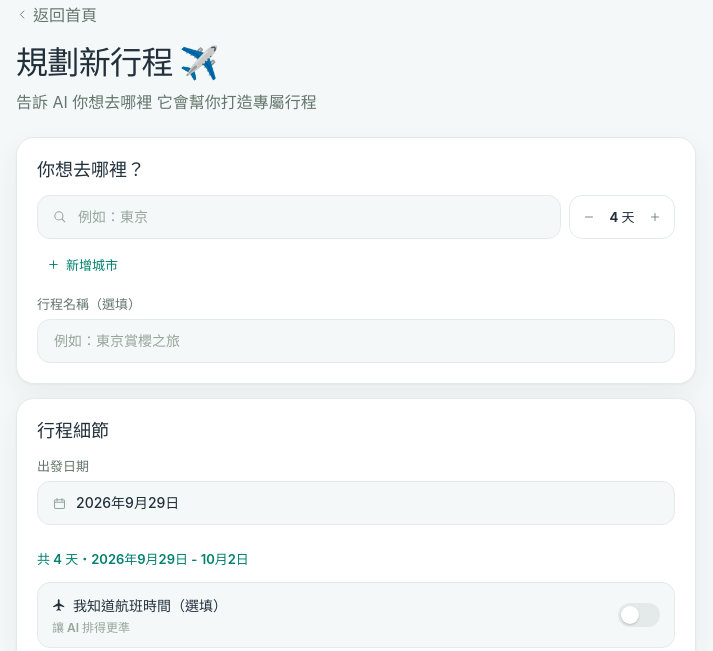
Test: CreateTripPage › removing a city before the one with a validation error keeps the error attached to the right (still-blank) field
The image size is (713, 651).
Click the button with class "destination-list__add".
click(82, 264)  # box x1=37 y1=249 x2=128 y2=280
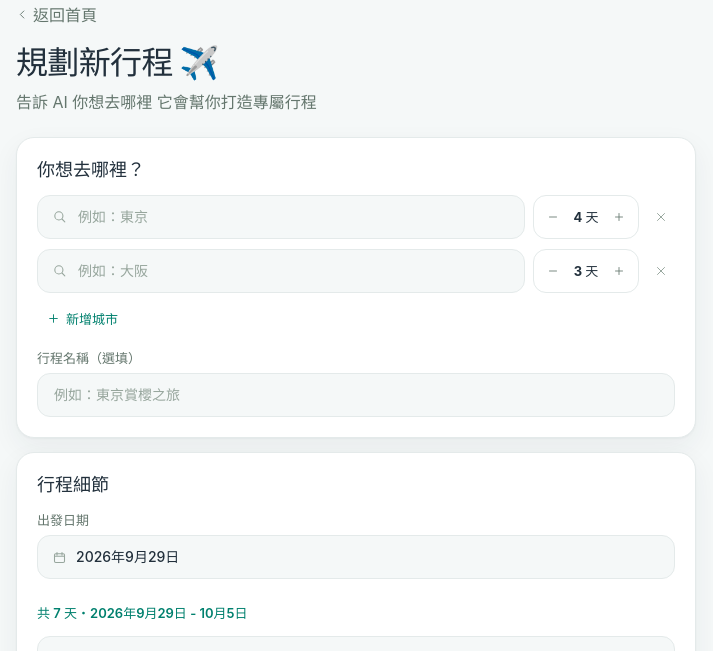
Click the button with class "destination-list__add".
click(82, 318)  # box x1=37 y1=303 x2=128 y2=334
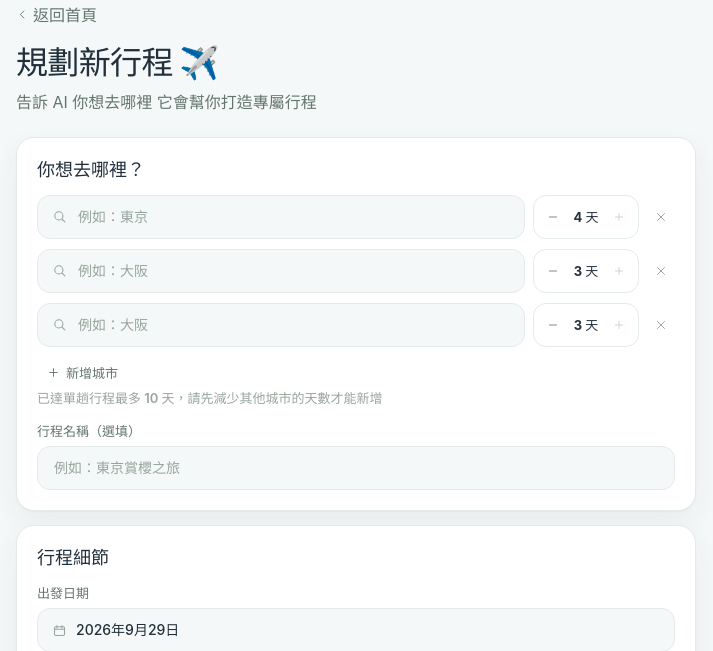
Type "京都，日本" into the dropdown with placeholder "例如：東京".
click(293, 217); type("京都，日本")  # box x1=76 y1=208 x2=510 y2=226
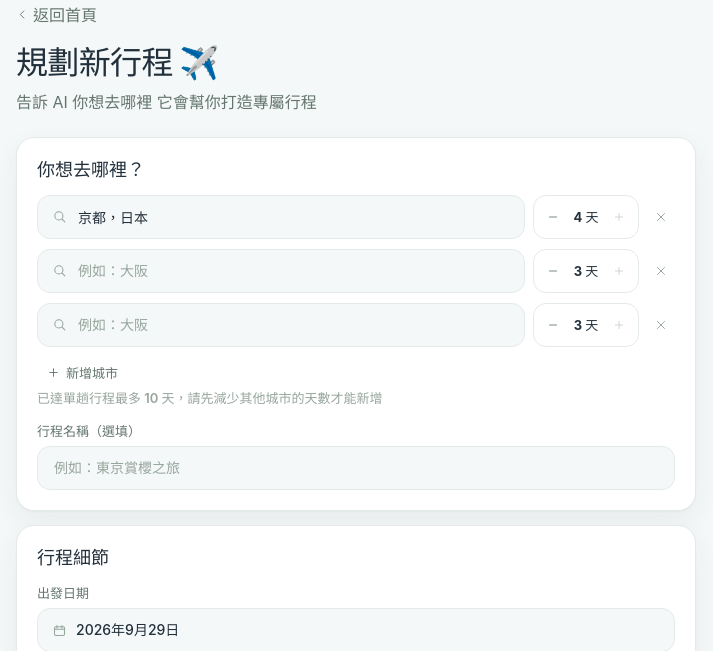
Type "大阪，日本" into the 1st dropdown with placeholder "例如：大阪".
click(293, 271); type("大阪，日本")  # box x1=76 y1=262 x2=510 y2=280
(page scrolled)
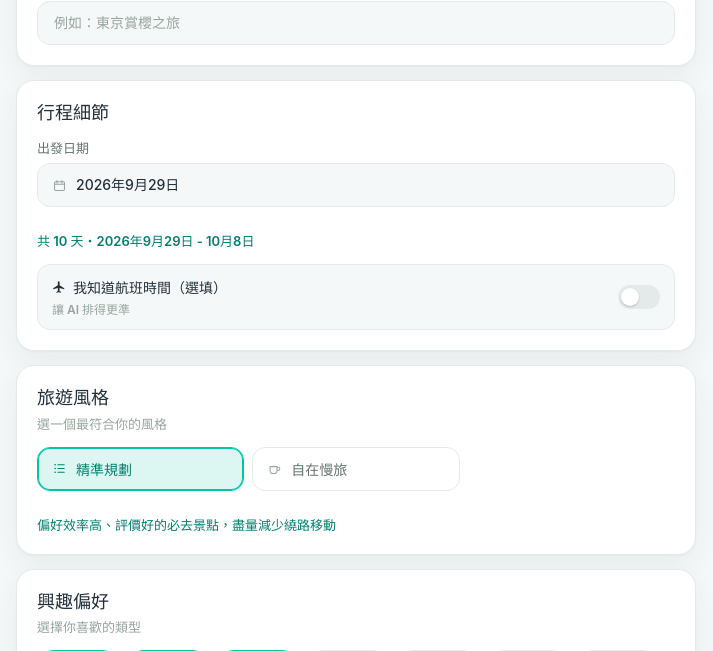
Submit the form
(page scrolled)
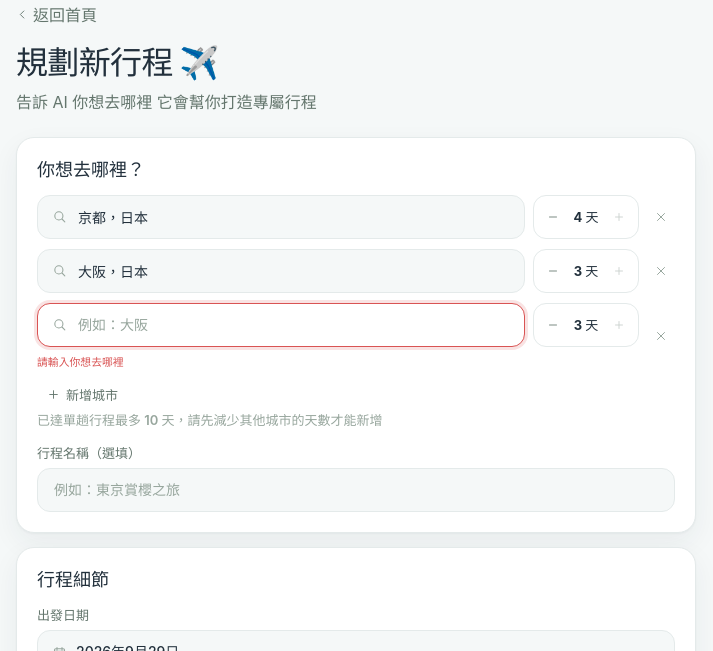
Click the button with class "destination-list__remove" next to "4 天".
click(661, 217)  # box x1=647 y1=203 x2=675 y2=231
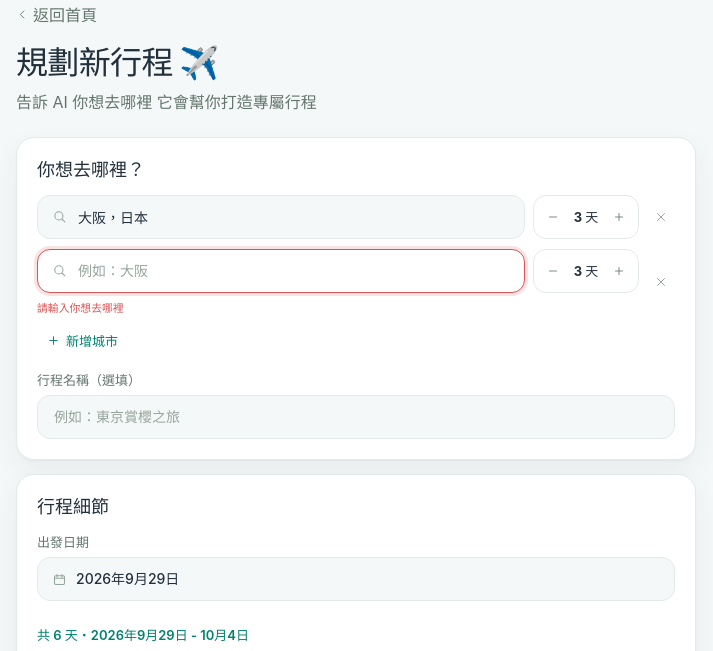
expect the number of labels with class "base-field--error" is 1: met, box x1=37 y1=249 x2=525 y2=315
